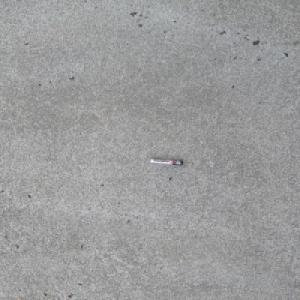Battery: (149, 158, 184, 166)
